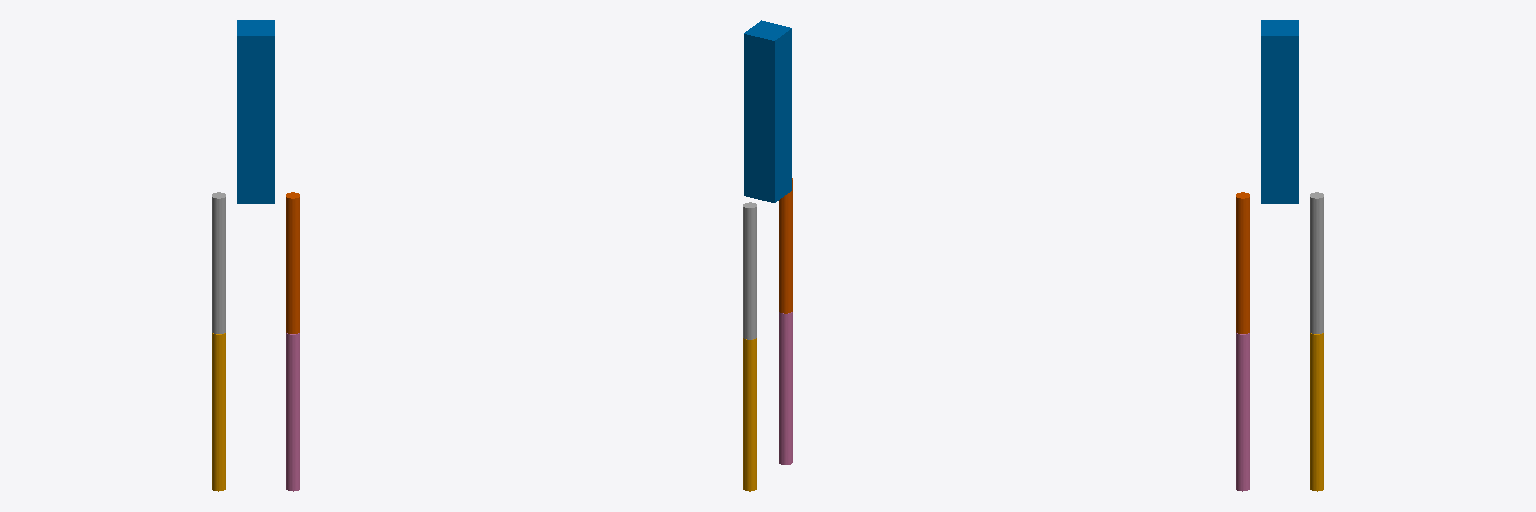
URDF robot description (amber3_PF):
<!-- AMBER 2D Model Description                                         -->
<robot name="amber3_PF">
  <material name="red">
    <color rgba="0 0 0.8 1"/>
  </material>
   <link name="world" />
 <link name="base_link" />
 <link name="base_link2" />
 <link name="base_link3" />


  <!-- Linkage Definitions -->
  <link name="torso">
    <inertial>
      <origin xyz="0 0 -0.28507"/>
      <mass value="13"/>
      <inertia ixx="0" ixy="0" ixz="0" iyy="0.1940" iyz="0" izz="0"/>
    </inertial>
    <visual>
      <geometry>
        <box size="0.1 0.1 0.5"/>
      </geometry>
      <origin xyz="0.0 0.0 -0.25" rpy="0.0 0.0 0.0"/>
    </visual>
  </link>
  <link name="left_thigh">
    <inertial>
      <origin xyz="0.0 0.0 -0.1494" rpy= "0 0 0"/>
      <mass value="3.4261"/>
      <inertia ixx="0" ixy="0" ixz="0" iyy="0.0389" iyz="0" izz="0"/>
    </inertial>
    <visual>
      <geometry>
        <cylinder length="0.4046" radius="0.02"/>
      </geometry>
      <origin xyz="0.0 -0.1 -0.2" rpy="0.0 0.0 0.0"/>
    </visual>
  </link>
  <link name="left_shin">
    <inertial>
      <origin xyz="0 0 -0.171885" rpy="0 0 0"/>
      <mass value=".85216"/>
      <inertia ixx="0" ixy="0" ixz="0" iyy="0.019286025" iyz="0" izz="0"/>
    </inertial>
    <visual>
      <!--origin xyz="0.04 -0.06 -0.4666" rpy="1.57 0 -1.57"/-->
      <origin xyz="0.0 -0.1 -0.23" rpy="0 0 0"/>
      <geometry>
        <cylinder length="0.4666" radius="0.02"/>
        <!--mesh scale="0.001 0.001 0.001" filename="mesh/PointFootLeg_basic.STL"/-->
      </geometry>
    </visual>
  </link>
  <link name="right_thigh">
    <inertial>
      <origin xyz="0.0 0.0 -0.1494" rpy= "0 0 0"/>
      <mass value="3.4261"/>
      <inertia ixx="0" ixy="0" ixz="0" iyy="0.0389" iyz="0" izz="0"/>
    </inertial>
    <visual>
      <origin xyz="0.0 0.1 -0.2" rpy="0 0 0"/>
      <geometry>
        <cylinder length="0.4046" radius="0.02"/>
      </geometry>
    </visual>
  </link>
  <link name="right_shin">
    <inertial>
      <origin xyz="0.0 0.0 -0.171885" rpy="0 0 0"/>
      <mass value="0.85216"/>
      <inertia ixx="0" ixy="0" ixz="0" iyy="0.019286025" iyz="0" izz="0"/>
    </inertial>
    <visual>
      <!--origin xyz="0.04 0.14 -0.4666" rpy="1.57 0 -1.57"/-->
      <origin xyz="0.0 0.1 -0.23" rpy="0 0 0"/>
      <geometry>
        <cylinder length="0.4666" radius="0.02"/>
        <!--esh scale="0.001 0.001 0.001" filename="mesh/PointFootLeg_basic.STL"/-->
      </geometry>
    </visual>
  </link>


  <!-- Joint Definitions -->
  <joint name="q1_left" type="revolute">
    <parent link="torso"/>
    <child link="left_thigh"/>
    <origin xyz="0 0 -0.4999" rpy="0 0 0"/>
    <axis xyz="0 1 0"/>
    <limit effort="400.0" lower="-1.6" upper="1.6" velocity="4"/>
  </joint>
  <joint name="q2_left" type="revolute">
    <parent link="left_thigh"/>
    <child link="left_shin"/>
    <origin xyz="0.0 0.0 -0.4064" rpy="0 0 0"/>
    <axis xyz="0 1 0"/>
    <limit effort="400.0" lower="0" upper="1.5" velocity="4"/>
  </joint>
    <joint name="q1_right" type="revolute">
    <parent link="torso"/>
    <child link="right_thigh"/>
    <origin xyz="0.0 0.0 -0.4999" rpy="0 0 0"/>
    <axis xyz="0 1 0"/>
    <limit effort="400.0" lower="-1.6" upper="1.6" velocity="4"/>
  </joint>
  <joint name="q2_right" type="revolute">
    <parent link="right_thigh"/>
    <child link="right_shin"/>
    <origin xyz="0.0 0.0 -0.4064" rpy="0 0 0"/>
    <axis xyz="0 1 0"/>
    <limit effort="400.0" lower="0" upper="1.5" velocity="5"/>
  </joint>

  <joint name="base_link_to_base_link2" type="revolute">
    <parent link="base_link"/>
    <child link="base_link2"/>
    <!-- <axis xyz="0 0 1"/>  -->
    <axis xyz="0 1 0"/>
    <limit effort="1000.0" lower="-1" upper="1" velocity="0.5"/>
    <origin rpy="0 0 0" xyz="0 0.0 0"/>
  </joint>

  <joint name="base_link2_to_base_link3" type="prismatic">
    <parent link="base_link2"/>
    <child link="base_link3"/>
    <!-- <axis xyz="0 1 0"/>  -->
    <axis xyz="0 0 1"/>
    <origin rpy="0 0 0" xyz="0 0.0 0"/>
  </joint>

  <joint name="base_link3_to_torso" type="prismatic">
    <parent link="base_link3"/>
    <child link="torso"/>
    <axis xyz="1 0 0"/>
    <origin rpy="0 0 0" xyz="0 0.0 0"/>
  </joint>

 <joint name="world_joint" type="fixed">
  <parent link="world"/>
   <child link="base_link"/>
  <origin rpy="0 0 0" xyz="0 0.0 0"/>
  </joint>

  <!-- Toe -->
  <link name="left_toe">
    <contact>
      <friction_anchor/>
      <stiffness value="30000000.0"/>
      <damping value="10000.0"/>
      <spinning_friction value="0.3"/>
      <lateral_friction value="3.0"/>
    </contact>
    <visual>
      <origin rpy="0 0 0" xyz="0 0 0"/>
      <geometry>
        <sphere radius="0.003"/>
      </geometry>
      <material name="darkgray"/>
    </visual>
    <collision>
      <origin rpy="0 0 0" xyz="0 0 0"/>
      <geometry>
        <sphere radius="0.003"/>
      </geometry>
    </collision>
    <inertial>
      <mass value="0.0"/>
      <inertia ixx="0.0" ixy="0" ixz="0" iyy="0.0" iyz="0" izz="0.0"/>
    </inertial>
  </link>
  <joint name="jleft_toe" type="fixed">
    <parent link="left_shin"/>
    <child link="left_toe"/>
    <origin xyz="0 -0.1 -0.4636"/>
    <dynamics damping="0.0" friction="0.0"/> 
  </joint>
<!-- Toe -->
  <link name="right_toe">
    <contact>
      <friction_anchor/>
      <stiffness value="30000000.0"/>
      <damping value="10000.0"/>
      <spinning_friction value="0.3"/>
      <lateral_friction value="3.0"/>
    </contact>
    <visual>
      <origin rpy="0 0 0" xyz="0 0 0"/>
      <geometry>
        <sphere radius="0.003"/>
      </geometry>
      <material name="darkgray"/>
    </visual>
    <collision>
      <origin rpy="0 0 0" xyz="0 0 0"/>
      <geometry>
        <sphere radius="0.003"/>
      </geometry>
    </collision>
    <inertial>
      <mass value="0.0"/>
      <inertia ixx="0.00" ixy="0" ixz="0" iyy="0.0" iyz="0" izz="0.00"/>
    </inertial>
  </link>
  <joint name="jright_toe" type="fixed">
    <parent link="right_shin"/>
    <child link="right_toe"/>
    <origin xyz="0 0.1 -0.4636"/>
    <dynamics damping="0.0" friction="0.0"/>
  </joint>
</robot>

--- What the picture shows (computed from the rendered views, not written in the file) ---
Views: 3 orthographic renders of the robot side by side, from view 1: azimuth 90°, elevation 25°; view 2: azimuth 150°, elevation 25°; view 3: azimuth 270°, elevation 25°.
Model amber3_PF with 11 links and 10 joints (5 revolute, 2 prismatic, 3 fixed), rooted at world, posed all joints at 0.
Visible links, largest first — view 1: torso, left_shin, right_shin, left_thigh, right_thigh; view 2: torso, left_shin, right_shin, right_thigh, left_thigh; view 3: torso, left_shin, right_shin, left_thigh, right_thigh.
Boxes of the visible links, box(x1,y1,x2,y2) form: torso: box(237, 20, 274, 203); left_shin: box(286, 333, 299, 491); right_shin: box(212, 333, 225, 491); left_thigh: box(286, 192, 299, 333); right_thigh: box(212, 192, 225, 333); torso: box(744, 20, 791, 202); left_shin: box(779, 312, 792, 464); right_shin: box(743, 338, 756, 491); right_thigh: box(743, 202, 756, 339); left_thigh: box(779, 178, 792, 313); torso: box(1261, 20, 1298, 203); left_shin: box(1236, 333, 1249, 491); right_shin: box(1310, 333, 1323, 491); left_thigh: box(1236, 192, 1249, 333); right_thigh: box(1310, 192, 1323, 333).
Bounding box of the posed robot: 0.1 × 0.24 × 1.37 m (x, y, z).
Geometry: primitives only (box / cylinder / sphere), no mesh files.